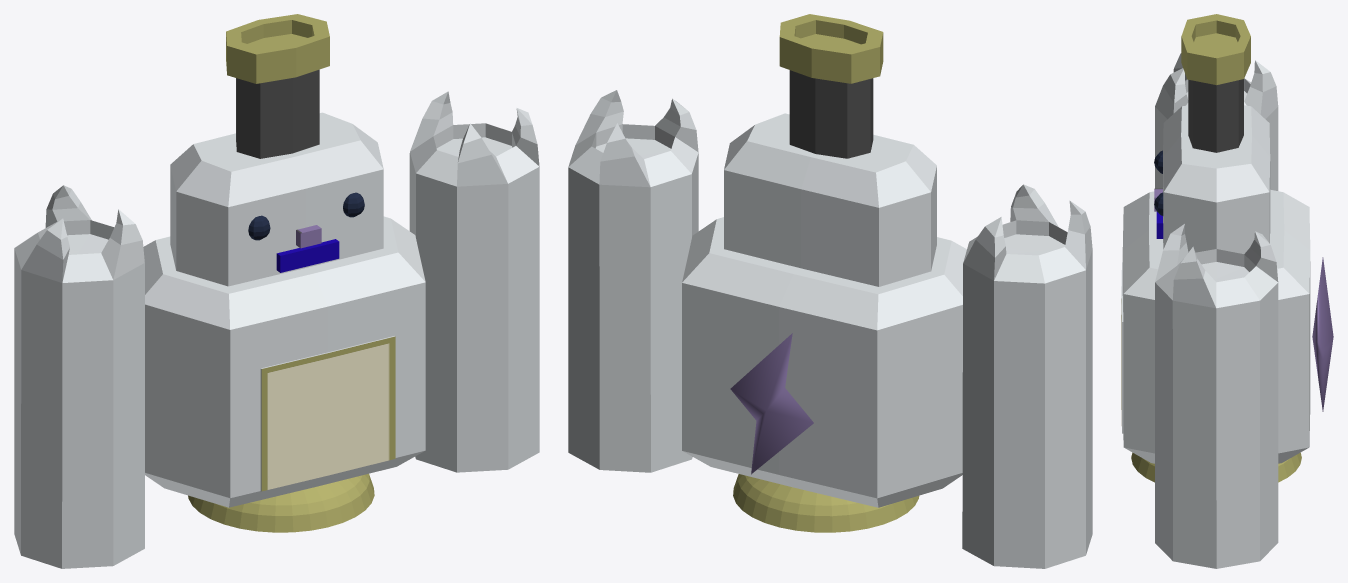
Rendered from ship.fbx.
The picture shows the model from 3 angles, left to right: view 1: azimuth 30°, elevation 25°; view 2: azimuth 150°, elevation 25°; view 3: azimuth 270°, elevation 25°; orthographic projection. The views are drawn at different scales.
Parts seen in each view (by area): view 1: ship; view 2: ship; view 3: ship.
Boxes of the visible parts, bbox=[...] form: ship: bbox=[14, 14, 539, 568]; ship: bbox=[568, 14, 1092, 568]; ship: bbox=[1121, 14, 1333, 568].
Size of the model in its own units: 4.72 by 4.06 by 1.86.
